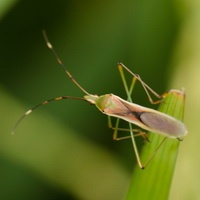insect: (11, 30, 187, 168), (131, 123, 164, 165)
